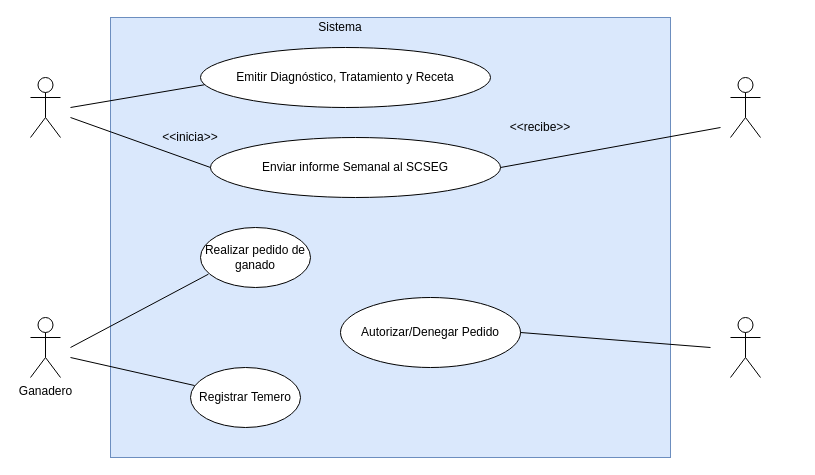
Some shapes in this 815 by 475 pixel diagram are drawn without their labels. The shapes that lost their labels are listed below. From the top down, each one's centre as x and y in pixels, then its label:
At point (45, 107): "Veterinario".
At point (745, 107): "SCSEG".
At point (745, 347): "Empleado Empresa".
